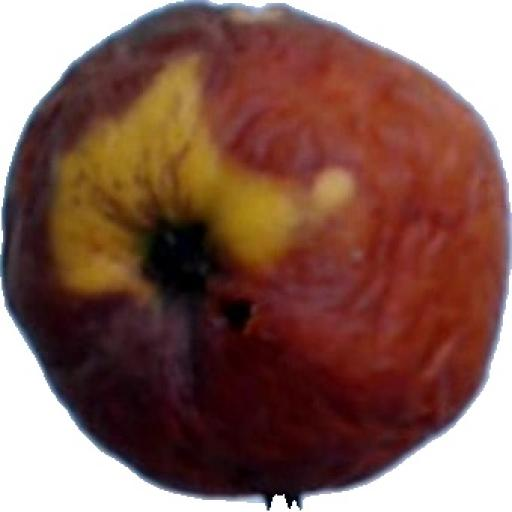apple-overripe: (0, 3, 512, 491)
